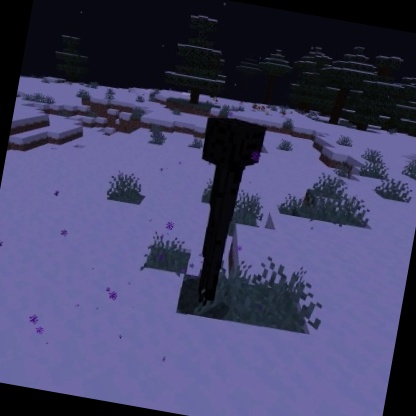enderman: (173, 111, 271, 312)
